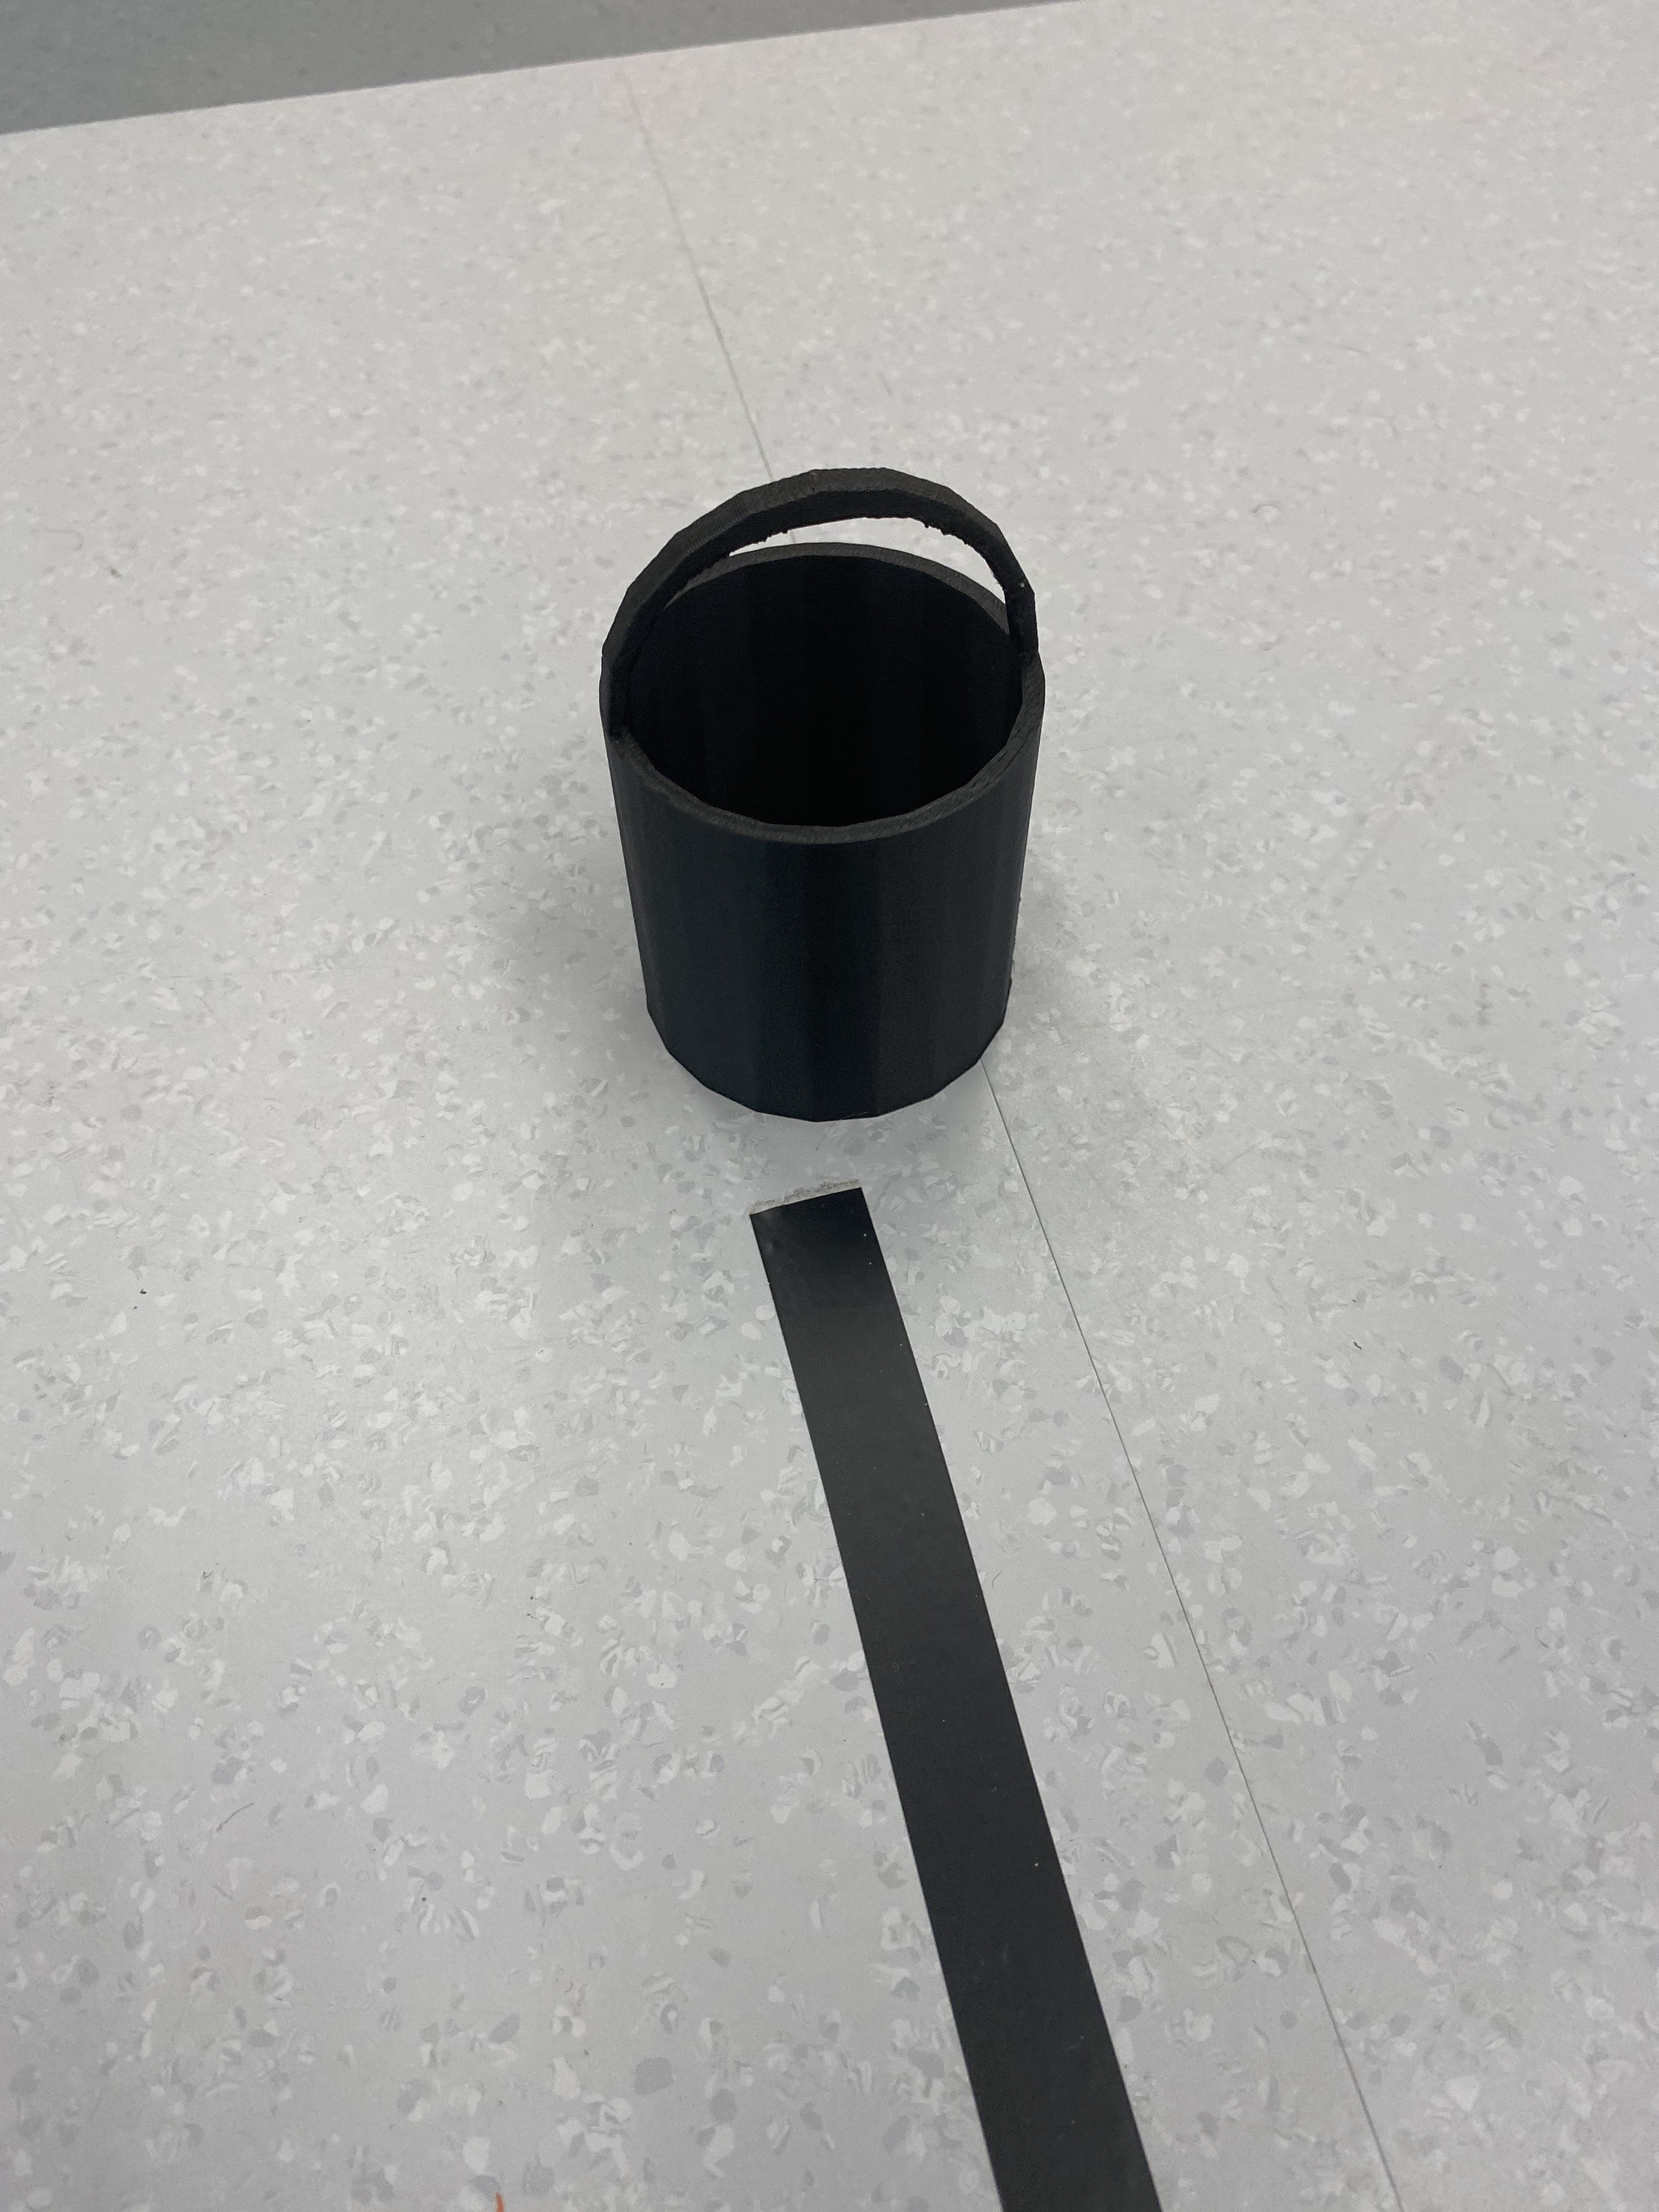bag: (591, 456, 1075, 1137)
